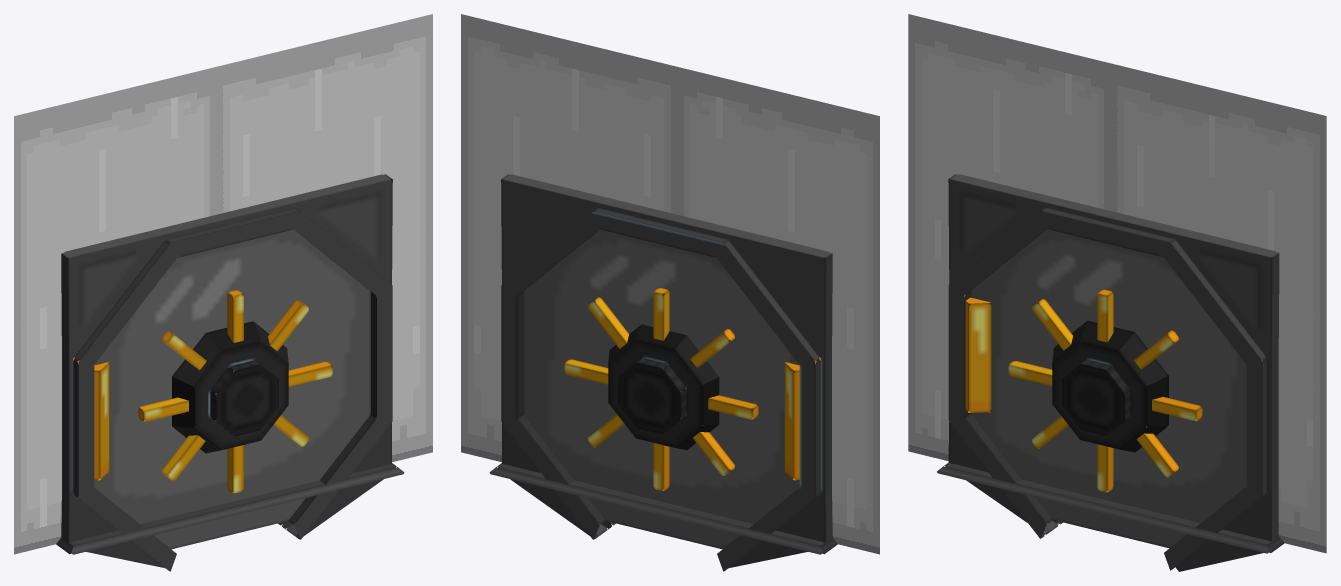
File: VaultDoor.fbx
The picture shows the model from 3 angles, left to right: view 1: azimuth 30°, elevation 25°; view 2: azimuth 150°, elevation 25°; view 3: azimuth 330°, elevation 25°; orthographic projection.
Visible parts, largest first — view 1: Wall, Tor, Rahmen, Schloss; view 2: Wall, Tor, Rahmen, Schloss; view 3: Wall, Tor, Rahmen, Schloss.
Part boxes in pixels (x1,y1,x2,y2): Wall: [14, 14, 432, 554]; Tor: [79, 229, 370, 549]; Rahmen: [56, 174, 404, 571]; Schloss: [138, 290, 332, 493]; Wall: [461, 14, 879, 554]; Tor: [523, 229, 814, 549]; Rahmen: [489, 174, 837, 571]; Schloss: [564, 288, 758, 490]; Wall: [908, 14, 1326, 553]; Tor: [970, 229, 1263, 548]; Rahmen: [937, 174, 1284, 571]; Schloss: [1008, 289, 1202, 492].
Size of the model in its own units: 500 by 554 by 93.62.
2 materials, 2 textured.
